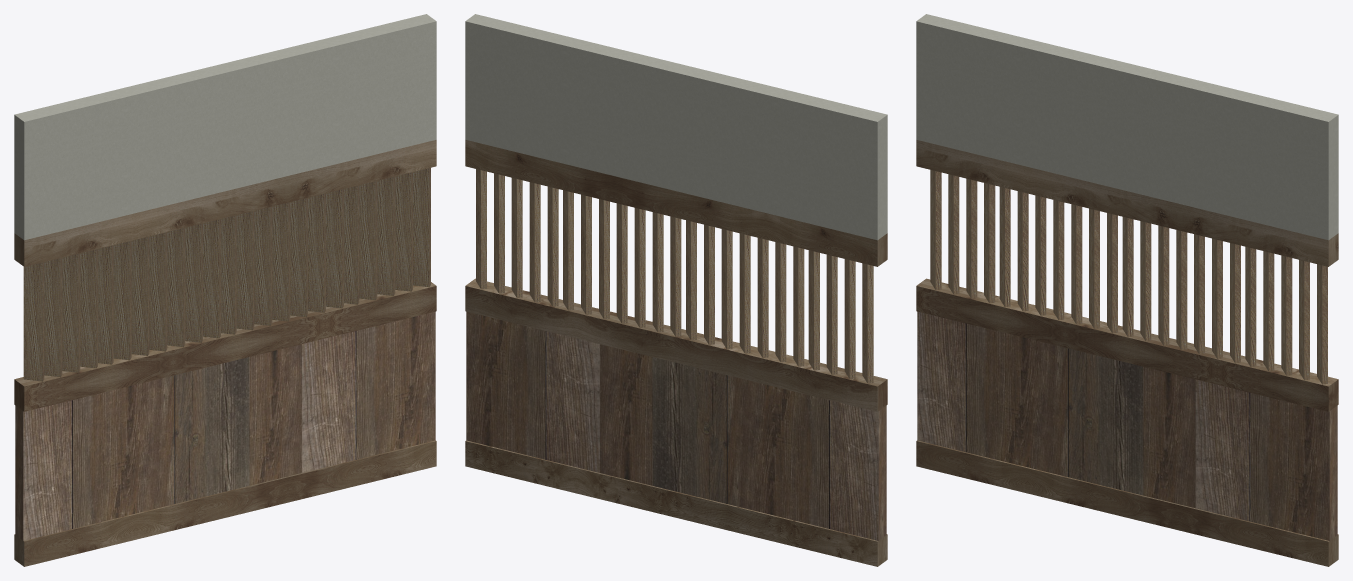
The model's file is SM_Sun_Toilet_Wall_G.fbx.
3 renders of one model, left to right at view 1: azimuth 30°, elevation 25°; view 2: azimuth 150°, elevation 25°; view 3: azimuth 330°, elevation 25°, orthographic.
Visible parts, largest first — view 1: SM_Sun_Toilet_Wall_G; view 2: SM_Sun_Toilet_Wall_G; view 3: SM_Sun_Toilet_Wall_G.
Boxes of the visible parts, x1,y1,x2,y2 form: SM_Sun_Toilet_Wall_G: (14, 14, 436, 566); SM_Sun_Toilet_Wall_G: (465, 14, 887, 566); SM_Sun_Toilet_Wall_G: (916, 14, 1338, 566).
Size of the model in its own units: 237 by 245 by 10.
